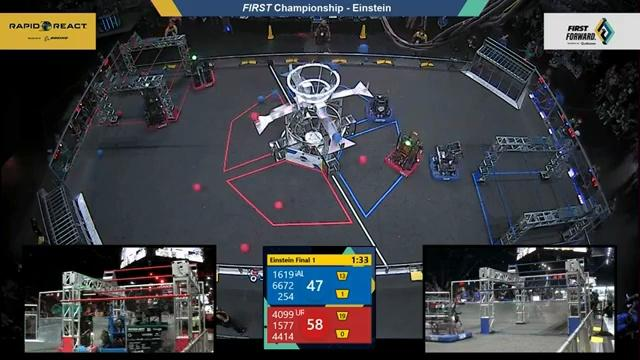robot: (383, 128, 425, 179), (428, 137, 464, 183), (186, 48, 220, 95), (141, 87, 172, 136), (363, 89, 398, 127)
